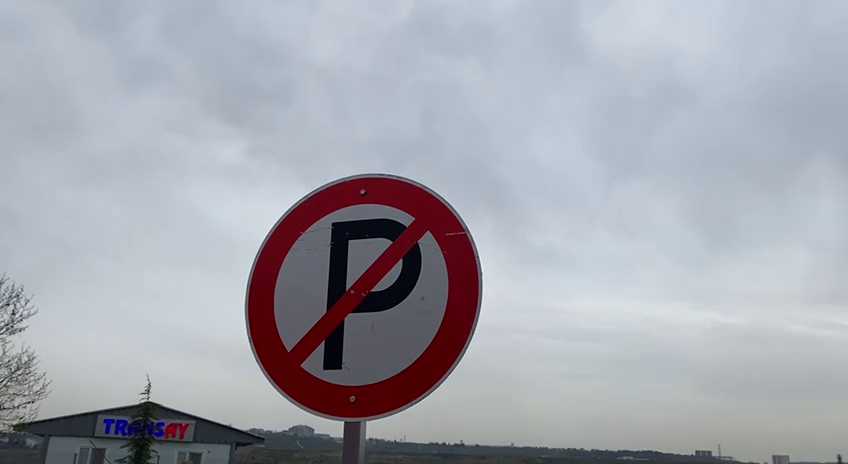noparking: (241, 170, 487, 426)
